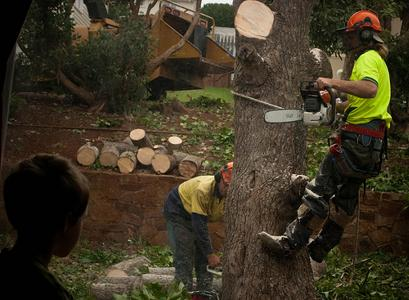person: (257, 11, 395, 263)
